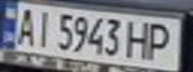3: (103, 16, 127, 57)
4: (87, 15, 109, 56)
5: (54, 10, 75, 52)
9: (69, 12, 90, 53)
A: (12, 4, 39, 47)
H: (124, 17, 154, 60)
I: (30, 7, 54, 48)
P: (142, 20, 178, 62)
